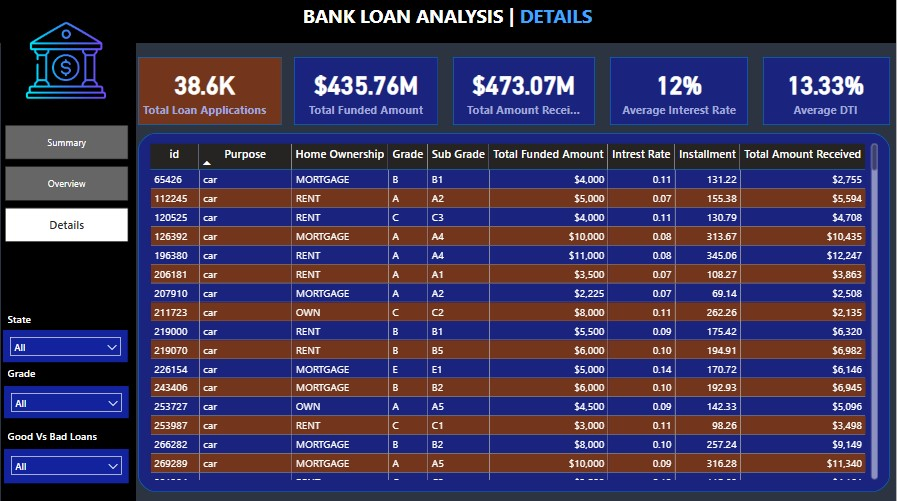

The page's visual inventory and layout, read from the dashboard file:
{"tool":"powerbi","page":{"name":"Details","canvas":[1280,720],"ordinal":2},"visuals":[{"type":"shape","box":[0,0,1280,62.8],"z":0},{"type":"shape","box":[198.4,82.8,205.5,97],"z":1000},{"type":"shape","box":[2.9,44.2,192.6,676.4],"z":2000},{"type":"textbox","box":[0,0,1280,62.8],"z":3000},{"type":"textbox","box":[192.6,308.2,195.5,28.5],"z":4000},{"type":"shape","box":[421,82.8,205.5,97],"z":5000},{"type":"shape","box":[647.8,82.8,202.6,97],"z":6000},{"type":"shape","box":[1090.2,82.8,181.2,97],"z":7000},{"type":"shape","box":[871.9,82.8,196.9,97],"z":8000},{"type":"card","fields":{"Values":["bank_loan_db bank_loan_analysis.Total Loan Applications"]},"box":[198.4,88.5,189.8,84.2],"z":9000},{"type":"card","fields":{"Values":["bank_loan_db bank_loan_analysis.Total Funded Amount"]},"box":[433.8,88.5,179.8,84.2],"z":10000},{"type":"card","fields":{"Values":["bank_loan_db bank_loan_analysis.Total Amount Received"]},"box":[662.1,88.5,172.7,84.2],"z":11000},{"type":"card","fields":{"Values":["bank_loan_db bank_loan_analysis.Average Interest Rate"]},"box":[883.3,88.5,174.1,84.2],"z":12000},{"type":"card","fields":{"Values":["bank_loan_db bank_loan_analysis.Average DTI"]},"box":[1100.2,88.5,158.4,84.2],"z":13000},{"type":"shape","box":[198.4,191.2,1073.1,512.3],"z":14000},{"type":"textbox","box":[232.4,191.3,202,41.1],"z":15000},{"type":"slicer","fields":{"Values":["bank_loan_db bank_loan_analysis.address_state"]},"box":[5.7,472.3,178.4,45.7],"z":16000},{"type":"textbox","box":[7.1,440.9,175.5,31.4],"z":17000},{"type":"slicer","fields":{"Values":["bank_loan_db bank_loan_analysis.grade"]},"box":[7.1,552.2,178.4,45.7],"z":18000},{"type":"textbox","box":[7.1,518,175.5,34.2],"z":19000},{"type":"slicer","fields":{"Values":["bank_loan_db bank_loan_analysis.Good vs Bad Loans"]},"box":[7.1,642.1,178.4,48.5],"z":20000},{"type":"textbox","box":[7.1,607.9,176.9,34.2],"z":21000},{"type":"tableEx","fields":{"Values":["bank_loan_db bank_loan_analysis.id","bank_loan_db bank_loan_analysis.purpose","bank_loan_db bank_loan_analysis.home_ownership","bank_loan_db bank_loan_analysis.grade","bank_loan_db bank_loan_analysis.sub_grade","bank_loan_db bank_loan_analysis.Total Funded Amount","Sum(bank_loan_db bank_loan_analysis.int_rate)","Sum(bank_loan_db bank_loan_analysis.installment)","bank_loan_db bank_loan_analysis.Total Amount Received"]},"box":[209.8,201.2,1048.8,489.5],"z":22000},{"type":"image","box":[8.6,15.7,174.1,145.6],"z":23000},{"type":"pageNavigator","box":[8.6,179.8,176.9,168.4],"z":24000}]}

Visuals, with their boxes in screenshot pixels (x1, y1, x2, y2), scaled from the page's 1280x720 canvas onto the 899x501 screenshot:
shape: detection(0, 0, 898, 44)
shape: detection(139, 58, 284, 125)
shape: detection(2, 31, 137, 500)
textbox: detection(0, 0, 898, 44)
textbox: detection(135, 214, 273, 234)
shape: detection(296, 58, 440, 125)
shape: detection(455, 58, 597, 125)
shape: detection(766, 58, 893, 125)
shape: detection(612, 58, 751, 125)
card - bank_loan_db bank_loan_analysis.Total Loan Applications: detection(139, 62, 273, 120)
card - bank_loan_db bank_loan_analysis.Total Funded Amount: detection(305, 62, 431, 120)
card - bank_loan_db bank_loan_analysis.Total Amount Received: detection(465, 62, 586, 120)
card - bank_loan_db bank_loan_analysis.Average Interest Rate: detection(620, 62, 743, 120)
card - bank_loan_db bank_loan_analysis.Average DTI: detection(773, 62, 884, 120)
shape: detection(139, 133, 893, 490)
textbox: detection(163, 133, 305, 162)
slicer - bank_loan_db bank_loan_analysis.address_state: detection(4, 329, 129, 360)
textbox: detection(5, 307, 128, 329)
slicer - bank_loan_db bank_loan_analysis.grade: detection(5, 384, 130, 416)
textbox: detection(5, 360, 128, 384)
slicer - bank_loan_db bank_loan_analysis.Good vs Bad Loans: detection(5, 447, 130, 481)
textbox: detection(5, 423, 129, 447)
tableEx - bank_loan_db bank_loan_analysis.id x bank_loan_db bank_loan_analysis.purpose: detection(147, 140, 884, 481)
image: detection(6, 11, 128, 112)
pageNavigator: detection(6, 125, 130, 242)
